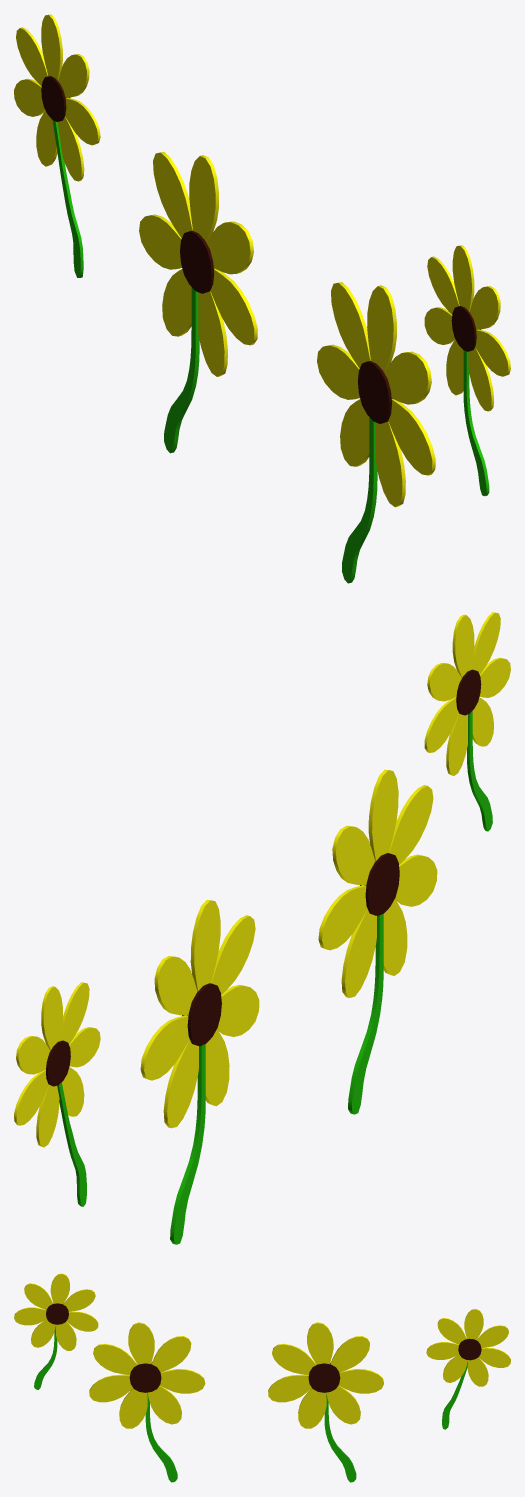
The model's file is Flowers.fbx.
3 views of the same model, one above another, from view 1: azimuth 30°, elevation 25°; view 2: azimuth 150°, elevation 25°; view 3: azimuth 270°, elevation 25° (orthographic). The views are drawn at different scales.
Parts seen in each view (by area): view 1: FlowerGroup, Flower1, Flower2; view 2: FlowerGroup, Flower1, Flower2; view 3: FlowerGroup, Flower1, Flower2.
Part boxes in pixels (left/top/right/bottom): FlowerGroup: left=317, top=245, right=510, bottom=583; Flower1: left=139, top=152, right=257, bottom=453; Flower2: left=14, top=14, right=100, bottom=277; FlowerGroup: left=318, top=612, right=510, bottom=1114; Flower1: left=140, top=900, right=259, bottom=1244; Flower2: left=14, top=982, right=100, bottom=1206; FlowerGroup: left=14, top=1273, right=205, bottom=1482; Flower1: left=268, top=1322, right=383, bottom=1482; Flower2: left=426, top=1309, right=510, bottom=1429.
Bounding box in the file's own units: 3.32 × 144 × 310.
